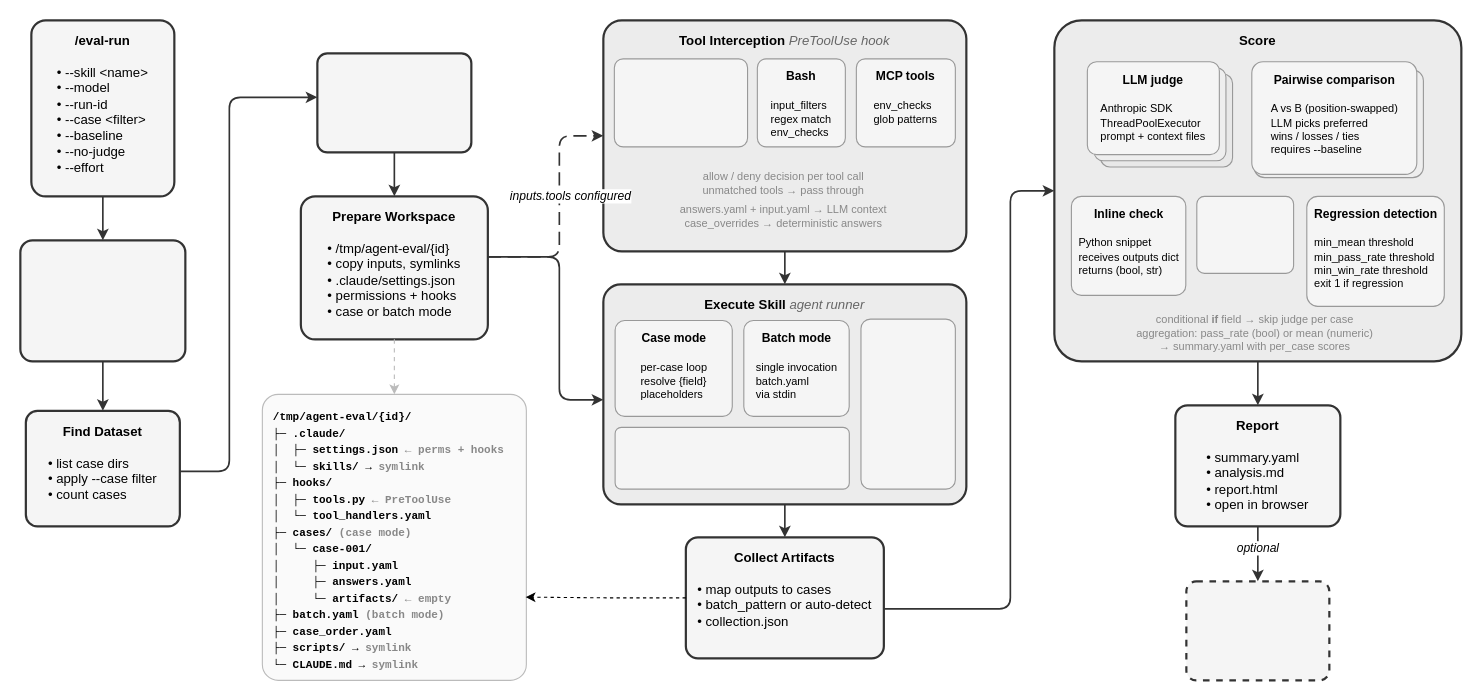
The diagram is 1481 pixels wide and 700 high, and some of its shapes have lost their labels. Here are the shapes that lost their labels. From the top down, the centre of each, then its label:
[394,102]: Preflight • check stale artifacts • clean or change id
[680,102]: AskUserQuestion 1. exact match 2. LLM + context 3. fallback
[1245,234]: External module + function importlib
[102,300]: Load Config • eval.yaml • validate skill, dataset • resolve models
[907,403]: Outputs stdout.log stderr.log run_result.json subagent .jsonl
[731,457]: claude --print (headless) system prompt injection stream-json capture
[1257,630]: MLflow • log results • push traces
